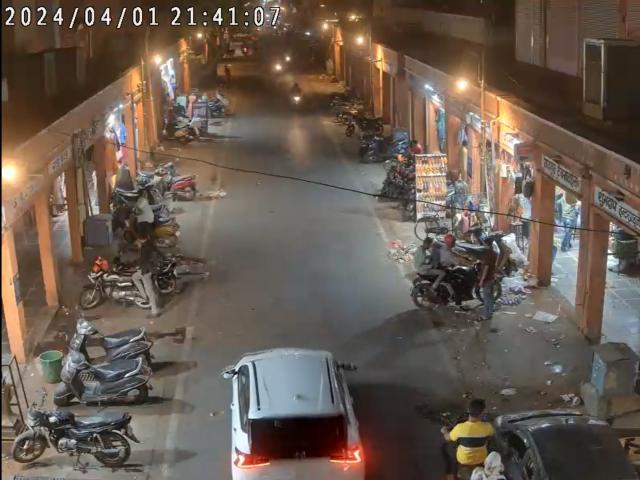car: (224, 344, 371, 477), (494, 406, 640, 479)
motorbike: (17, 382, 135, 468), (80, 251, 152, 311)
motorbike-rider: (406, 230, 486, 328)
scooty: (69, 314, 156, 406)
